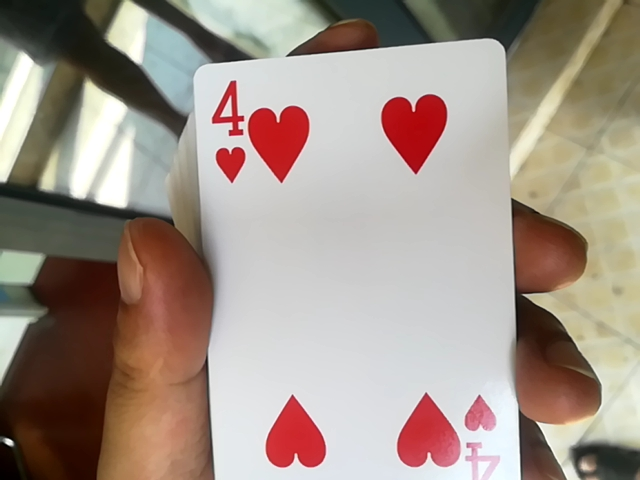hx 4: (185, 36, 524, 472)
